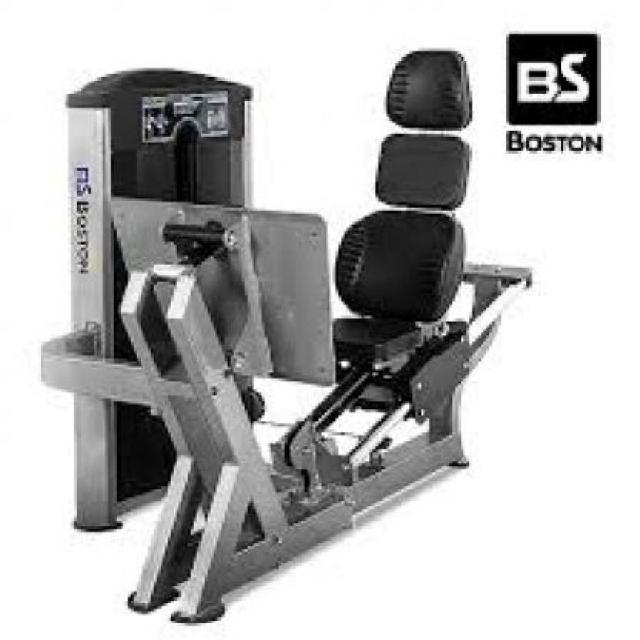leg press: (32, 42, 560, 632)
